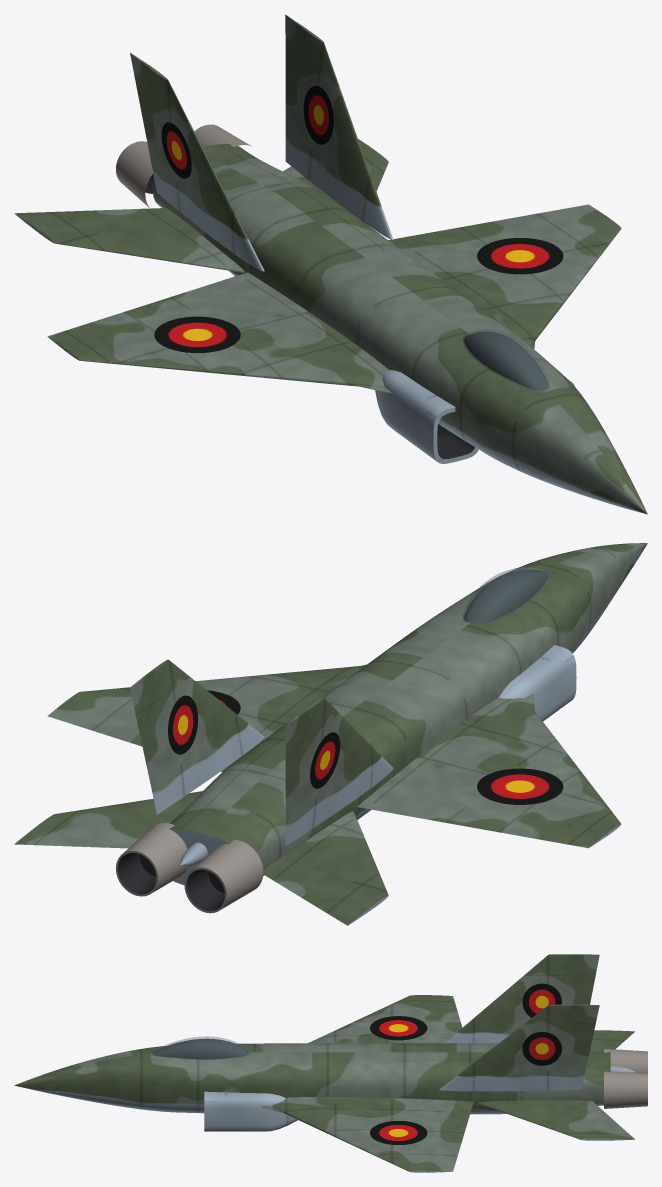
The model's file is 23_EastGer_MiG29.glb.
3 views of the same model, one above another, from view 1: azimuth 30°, elevation 25°; view 2: azimuth 150°, elevation 25°; view 3: azimuth 270°, elevation 25° (orthographic). The views are drawn at different scales.
Parts seen in each view (by area): view 1: Fuselage, Wing0_R, Wing0_L, Fin3_L, Fin3_R, Htail2_R, Intake_R, Canopy, Cockpit, Decal_Wing_U_L, Decal_Wing_U_R, Nozzle_R (+4 smaller); view 2: Fuselage, Wing0_R, Fin3_L, Wing0_L, Fin3_R, Htail2_R, Htail2_L, Nozzle_R, Nozzle_L, Intake_R, Canopy, Cockpit (+3 smaller); view 3: Fuselage, Wing0_L, Fin3_L, Fin3_R, Wing0_R, Htail2_L, Intake_L, Canopy, Nozzle_L, Cockpit, Decal_Wing_U_R, Decal_Wing_U_L (+4 smaller).
Part boxes in pixels (x1=…): Fuselage: x1=153, y1=143, x2=647, y2=514; Wing0_R: x1=47, y1=272, x2=388, y2=386; Wing0_L: x1=388, y1=204, x2=621, y2=345; Fin3_L: x1=285, y1=14, x2=392, y2=239; Fin3_R: x1=130, y1=52, x2=264, y2=271; Htail2_R: x1=14, y1=208, x2=244, y2=272; Intake_R: x1=375, y1=370, x2=478, y2=463; Canopy: x1=463, y1=329, x2=550, y2=392; Cockpit: x1=464, y1=331, x2=548, y2=390; Decal_Wing_U_L: x1=477, y1=238, x2=563, y2=274; Decal_Wing_U_R: x1=154, y1=316, x2=240, y2=352; Nozzle_R: x1=116, y1=141, x2=153, y2=207; Fuselage: x1=169, y1=543, x2=647, y2=884; Wing0_R: x1=357, y1=697, x2=621, y2=848; Fin3_L: x1=130, y1=659, x2=264, y2=814; Wing0_L: x1=47, y1=665, x2=364, y2=772; Fin3_R: x1=285, y1=697, x2=392, y2=845; Htail2_R: x1=263, y1=811, x2=388, y2=925; Htail2_L: x1=14, y1=791, x2=202, y2=848; Nozzle_R: x1=184, y1=839, x2=263, y2=913; Nozzle_L: x1=116, y1=823, x2=187, y2=896; Intake_R: x1=498, y1=645, x2=576, y2=721; Canopy: x1=463, y1=567, x2=550, y2=624; Cockpit: x1=464, y1=569, x2=548, y2=623; Fuselage: x1=14, y1=1043, x2=610, y2=1114; Wing0_L: x1=272, y1=1097, x2=473, y2=1172; Fin3_L: x1=439, y1=1004, x2=599, y2=1091; Fin3_R: x1=445, y1=954, x2=599, y2=1043; Wing0_R: x1=308, y1=995, x2=462, y2=1043; Htail2_L: x1=478, y1=1100, x2=634, y2=1140; Intake_L: x1=204, y1=1091, x2=297, y2=1131; Canopy: x1=150, y1=1036, x2=250, y2=1059; Nozzle_L: x1=604, y1=1071, x2=647, y2=1108; Cockpit: x1=152, y1=1038, x2=249, y2=1059; Decal_Wing_U_R: x1=370, y1=1016, x2=427, y2=1040; Decal_Wing_U_L: x1=370, y1=1121, x2=427, y2=1144.
Size of the model in its own units: 11.36 by 3.99 by 17.32.
Materials: 6 (2 with a texture image).
